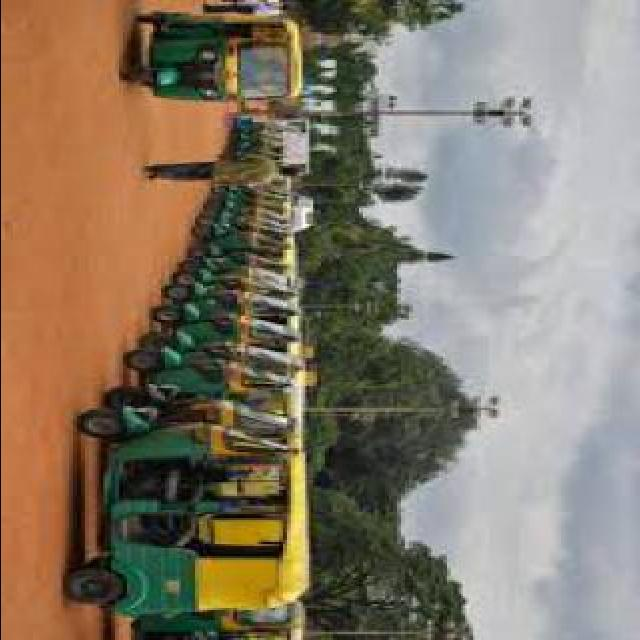Autorickshaw: (50, 200, 300, 630), (116, 4, 310, 124)
